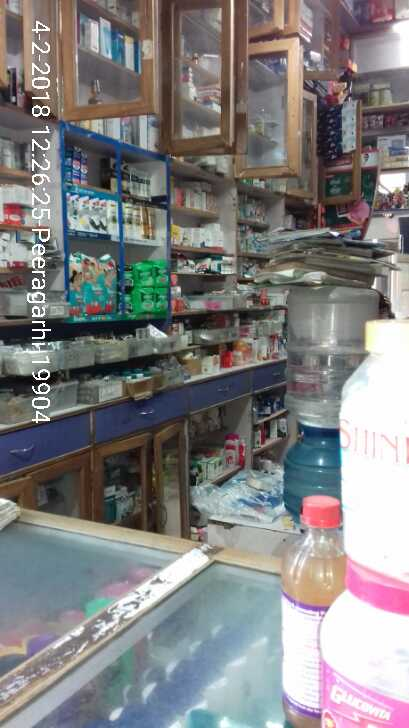vicks: (65, 141, 93, 191)
